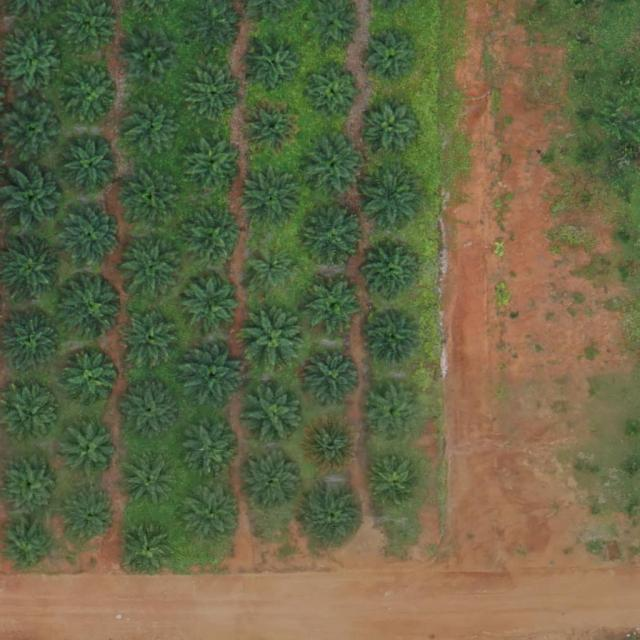Healthy: (360, 165, 423, 228), (182, 134, 245, 197), (120, 309, 183, 372), (119, 381, 182, 444), (2, 99, 65, 162), (242, 450, 305, 513), (304, 484, 367, 547), (301, 135, 363, 198), (302, 207, 365, 269), (245, 309, 307, 372), (183, 207, 245, 270), (182, 347, 244, 410), (124, 94, 186, 157), (122, 168, 184, 231), (121, 236, 183, 299), (59, 205, 121, 268), (62, 276, 124, 339), (2, 455, 65, 517), (180, 480, 242, 543), (244, 385, 306, 448), (242, 168, 304, 230), (126, 32, 181, 87), (366, 31, 421, 86), (367, 100, 422, 155), (367, 309, 422, 364), (305, 64, 360, 119), (309, 279, 364, 334), (305, 348, 360, 403), (188, 67, 243, 122), (63, 353, 118, 408), (4, 390, 59, 445), (2, 519, 57, 574), (63, 424, 118, 479), (64, 490, 119, 545), (124, 453, 179, 508), (123, 521, 178, 576), (189, 419, 244, 474), (371, 457, 426, 512), (6, 36, 60, 91), (248, 40, 302, 95), (367, 248, 421, 303), (367, 388, 421, 443), (185, 277, 239, 332), (63, 69, 117, 124), (65, 141, 119, 196)
Small: (249, 248, 296, 295)
Yellow: (245, 101, 300, 156), (305, 418, 360, 473)
